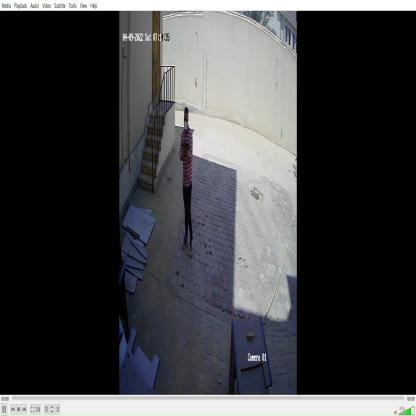handgun: (179, 137, 192, 160)
